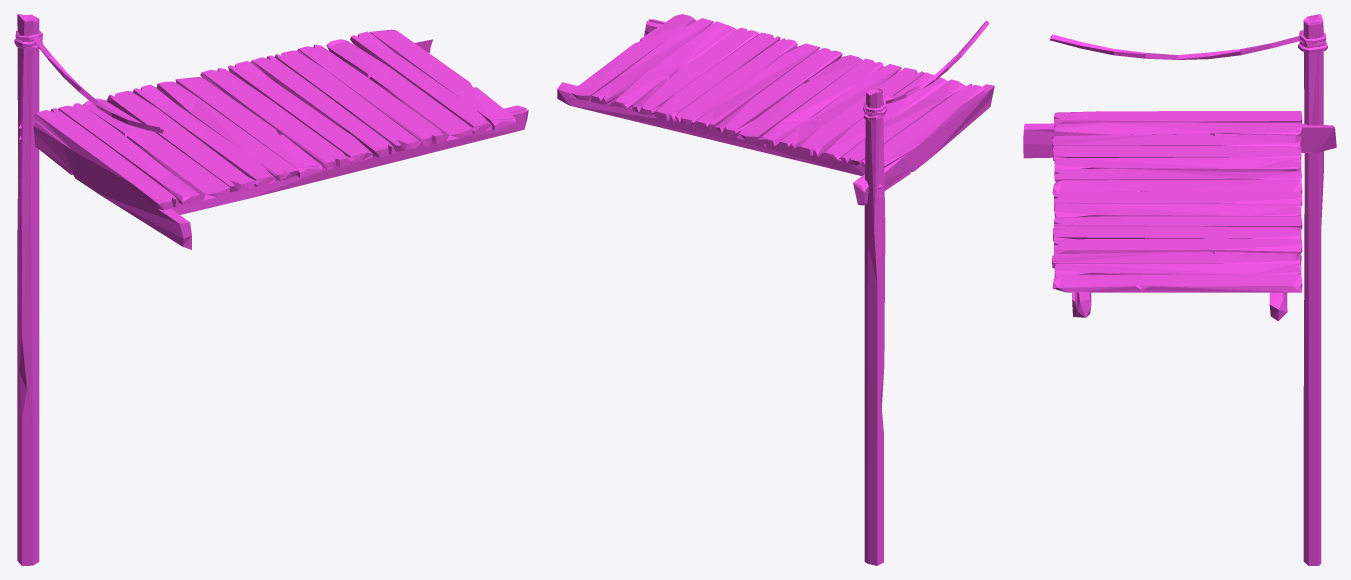
File: SM_Pier_Platform_Rope_Short_A_Fantasy.fbx
3 views of the same model, side by side, from view 1: azimuth 30°, elevation 25°; view 2: azimuth 150°, elevation 25°; view 3: azimuth 270°, elevation 25° (orthographic). The views are drawn at different scales.
Visible parts, largest first — view 1: SM_Pier_Platform_Rope_Short_A_Fantasy; view 2: SM_Pier_Platform_Rope_Short_A_Fantasy; view 3: SM_Pier_Platform_Rope_Short_A_Fantasy.
Part boxes in pixels (x1,y1,x2,y2): SM_Pier_Platform_Rope_Short_A_Fantasy: (14, 14, 528, 565); SM_Pier_Platform_Rope_Short_A_Fantasy: (557, 14, 994, 565); SM_Pier_Platform_Rope_Short_A_Fantasy: (1023, 14, 1336, 565).
Size of the model in its own units: 5.5 by 7.25 by 3.79.
